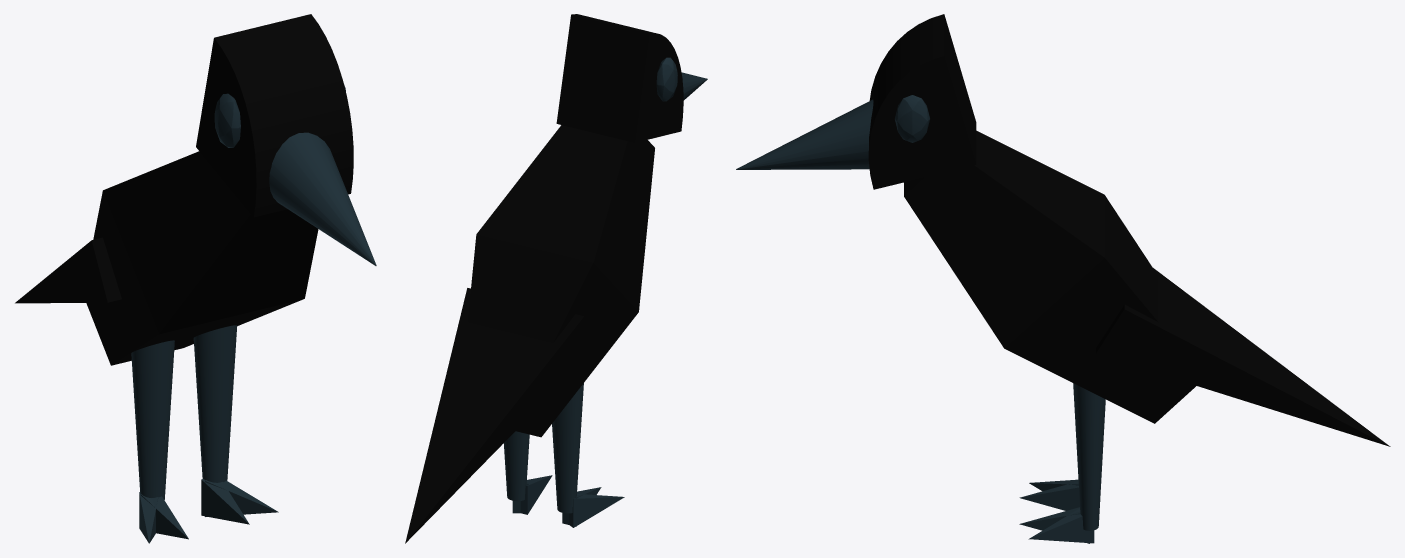
Rendered from crow.fbx.
3 views of the same model, side by side, from view 1: azimuth 30°, elevation 25°; view 2: azimuth 150°, elevation 25°; view 3: azimuth 270°, elevation 25° (orthographic). The views are drawn at different scales.
Parts seen in each view (by area): view 1: mergedBlocks; view 2: mergedBlocks; view 3: mergedBlocks.
Boxes of the visible parts, bbox=[...] form: mergedBlocks: bbox=[15, 14, 376, 543]; mergedBlocks: bbox=[405, 14, 707, 543]; mergedBlocks: bbox=[736, 14, 1390, 543].
Size of the model in its own units: 8.4 by 30.62 by 36.9.
